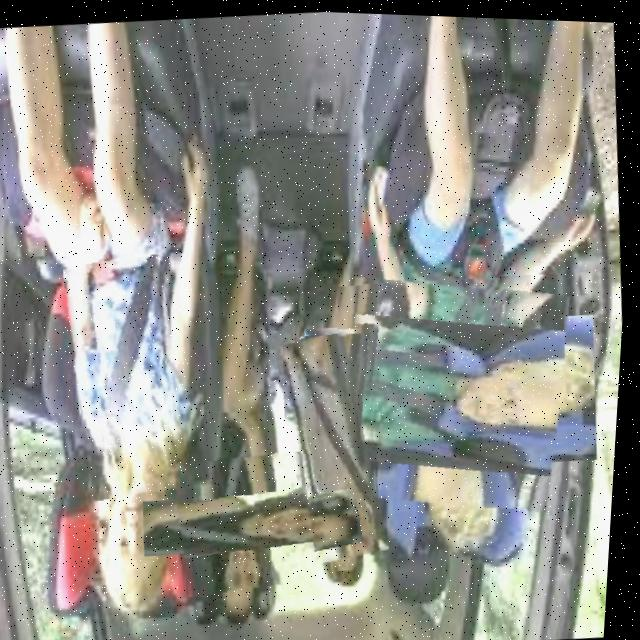seatbelt: (324, 261, 584, 518), (60, 249, 203, 501), (275, 326, 396, 563), (174, 445, 328, 595)
